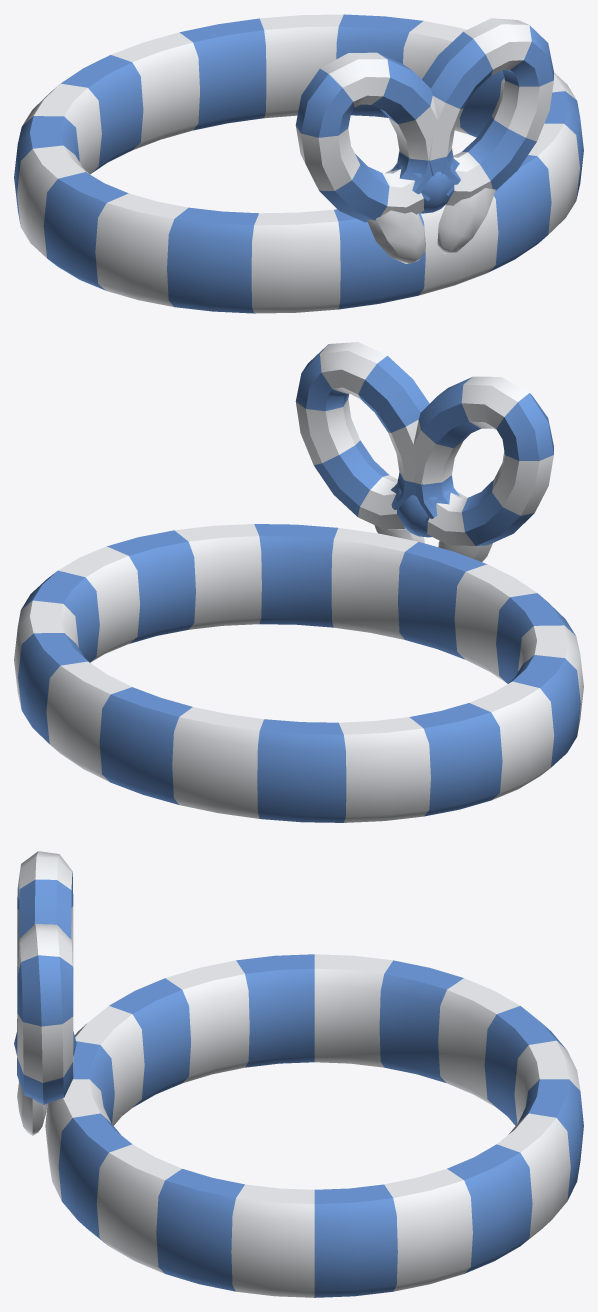
Rendered from sig_headscarf.gltf.
3 views of the same model, one above another, from view 1: azimuth 30°, elevation 25°; view 2: azimuth 150°, elevation 25°; view 3: azimuth 270°, elevation 25° (orthographic). The views are drawn at different scales.
Visible parts, largest first — view 1: sig_headscarf; view 2: sig_headscarf; view 3: sig_headscarf.
Boxes of the visible parts, x1,y1,x2,y2 form: sig_headscarf: [14, 14, 583, 313]; sig_headscarf: [14, 342, 583, 822]; sig_headscarf: [14, 851, 583, 1297].
Size of the model in its own units: 1 by 0.4906 by 0.91.
